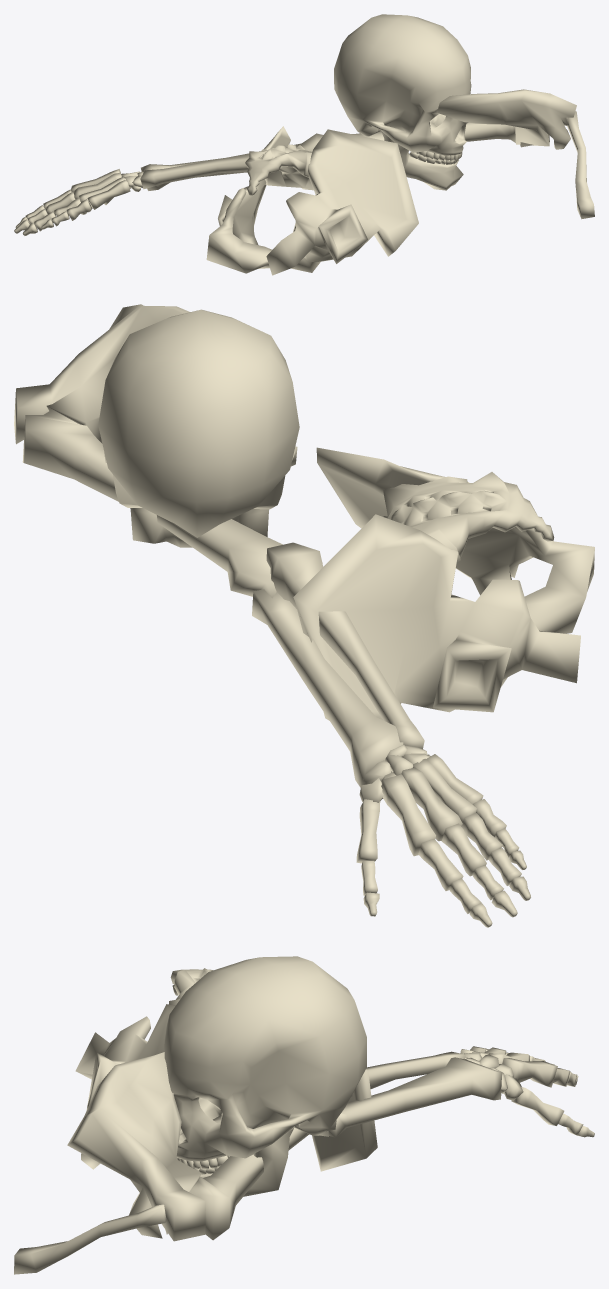
Rendered from Niche.glb.
The picture shows the model from 3 angles, top to bottom: view 1: azimuth 30°, elevation 25°; view 2: azimuth 150°, elevation 25°; view 3: azimuth 270°, elevation 25°; orthographic projection. The views are drawn at different scales.
Visible parts, largest first — view 1: BONES_PELVIS_rest, BONES_HEAD_rest, BONES_ARM.L_rest; view 2: BONES_PELVIS_rest, BONES_ARM.L_rest, BONES_HEAD_rest; view 3: BONES_HEAD_rest, BONES_ARM.L_rest, BONES_PELVIS_rest.
Boxes of the visible parts, box(x1,y1,x2,y2) form: BONES_PELVIS_rest: box(206, 126, 418, 275); BONES_HEAD_rest: box(334, 14, 471, 190); BONES_ARM.L_rest: box(14, 89, 594, 235); BONES_PELVIS_rest: box(293, 447, 594, 720); BONES_ARM.L_rest: box(14, 304, 530, 927); BONES_HEAD_rest: box(98, 309, 299, 547); BONES_HEAD_rest: box(164, 956, 366, 1196); BONES_ARM.L_rest: box(14, 1046, 594, 1274); BONES_PELVIS_rest: box(75, 968, 377, 1171).
Bounding box in the file's own units: 0.5 × 0.2452 × 0.3969.
